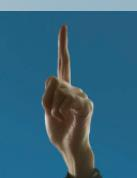up: (41, 23, 96, 151)
